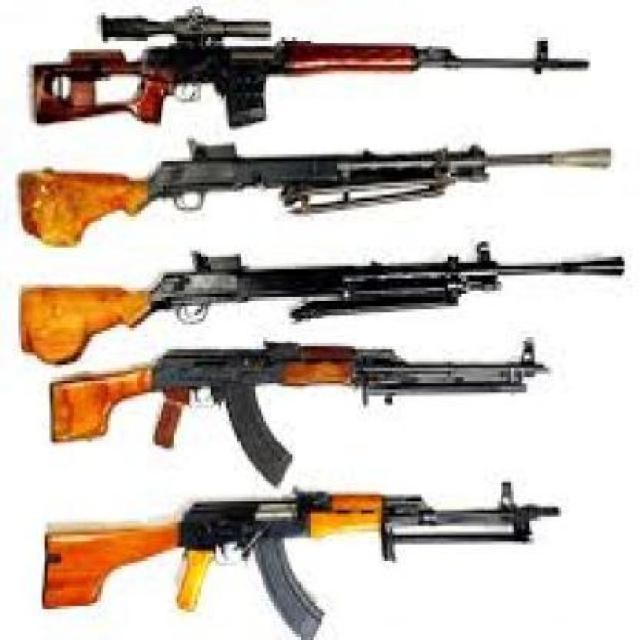weapon: (27, 474, 570, 640), (6, 330, 563, 484), (10, 120, 625, 243), (5, 241, 617, 362), (15, 6, 593, 132)
